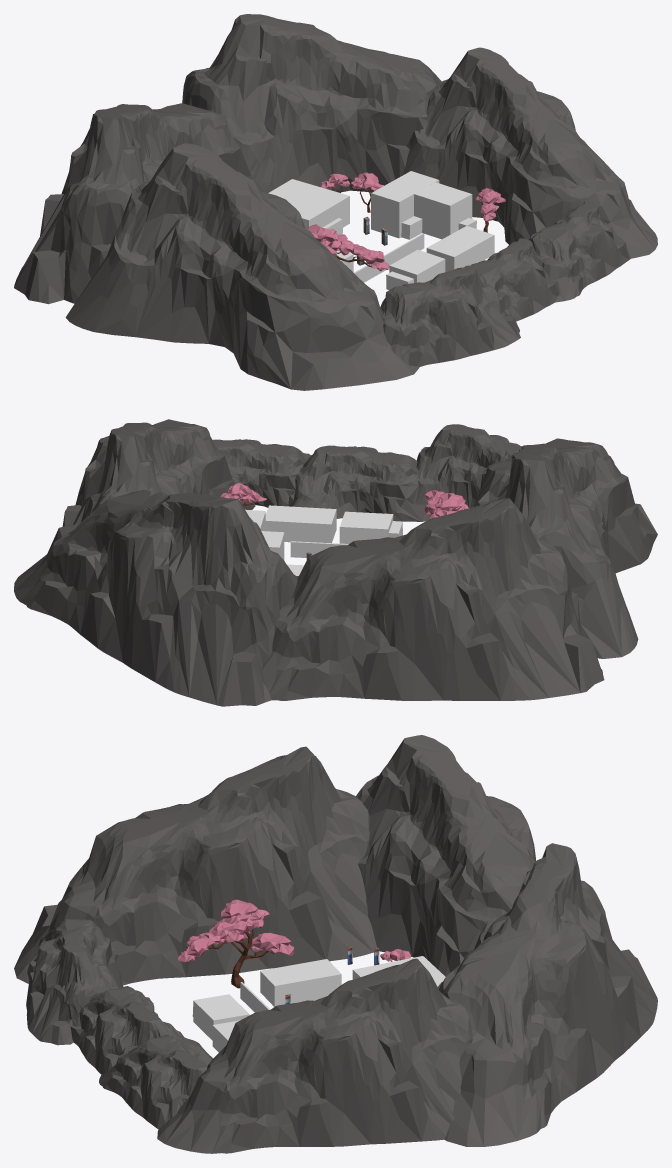
3 views of the same model, one above another, from view 1: azimuth 30°, elevation 25°; view 2: azimuth 150°, elevation 25°; view 3: azimuth 270°, elevation 25° (orthographic). The views are drawn at different scales.
Visible parts, largest first — view 1: SM_Env_Cliff_4.001, SM_Env_Cliff_5.002, SM_Env_Cliff_01_371.001, SM_Env_Cliff_5.001, SM_Env_Cliff_485, SM_Env_Cliff_19.001, SM_Env_Cliff_24.001, cube12_hide, cube6_hide, cube15_hide, cube11_hide, SM_Env_Tree_200 (+3 smaller); view 2: SM_Env_Cliff_5.001, SM_Env_Cliff_5.002, SM_Env_Cliff_4.001, SM_Env_Cliff_01_371.001, SM_Env_Cliff_24.001, SM_Env_Cliff_485, SM_Env_Cliff_19.001, cube11_hide, cube10_hide, SM_Env_Tree_200, cube5_hide, SM_Env_Tree_203 (+1 smaller); view 3: SM_Env_Cliff_4.001, SM_Env_Cliff_01_371.001, SM_Env_Cliff_5.002, SM_Env_Cliff_5.001, SM_Env_Cliff_485, SM_Env_Cliff_19.001, SM_Env_Cliff_24.001, SM_Env_Tree_200, cube14_hide, cube10_hide, cube15_hide.
Part boxes in pixels (x1=…): SM_Env_Cliff_4.001: x1=65, y1=143, x2=419, y2=390; SM_Env_Cliff_5.002: x1=182, y1=14, x2=441, y2=193; SM_Env_Cliff_01_371.001: x1=394, y1=47, x2=657, y2=258; SM_Env_Cliff_5.001: x1=14, y1=103, x2=266, y2=304; SM_Env_Cliff_485: x1=380, y1=265, x2=520, y2=367; SM_Env_Cliff_19.001: x1=527, y1=200, x2=630, y2=302; SM_Env_Cliff_24.001: x1=470, y1=238, x2=559, y2=321; cube12_hide: x1=414, y1=182, x2=472, y2=239; cube6_hide: x1=371, y1=171, x2=439, y2=238; cube15_hide: x1=268, y1=179, x2=349, y2=229; cube11_hide: x1=426, y1=226, x2=494, y2=272; SM_Env_Tree_200: x1=307, y1=224, x2=389, y2=271; SM_Env_Cliff_5.001: x1=262, y1=498, x2=604, y2=700; SM_Env_Cliff_5.002: x1=14, y1=490, x2=298, y2=706; SM_Env_Cliff_4.001: x1=474, y1=438, x2=657, y2=658; SM_Env_Cliff_01_371.001: x1=62, y1=419, x2=255, y2=526; SM_Env_Cliff_24.001: x1=288, y1=445, x2=431, y2=521; SM_Env_Cliff_485: x1=415, y1=424, x2=520, y2=507; SM_Env_Cliff_19.001: x1=213, y1=439, x2=311, y2=507; cube11_hide: x1=265, y1=505, x2=336, y2=543; cube10_hide: x1=339, y1=511, x2=393, y2=543; SM_Env_Tree_200: x1=424, y1=490, x2=468, y2=518; cube5_hide: x1=290, y1=541, x2=348, y2=557; SM_Env_Tree_203: x1=220, y1=483, x2=266, y2=507; SM_Env_Cliff_4.001: x1=14, y1=746, x2=376, y2=985; SM_Env_Cliff_01_371.001: x1=157, y1=958, x2=472, y2=1153; SM_Env_Cliff_5.002: x1=438, y1=843, x2=657, y2=1146; SM_Env_Cliff_5.001: x1=356, y1=735, x2=535, y2=976; SM_Env_Cliff_485: x1=26, y1=919, x2=123, y2=1045; SM_Env_Cliff_19.001: x1=99, y1=1034, x2=207, y2=1129; SM_Env_Cliff_24.001: x1=70, y1=986, x2=212, y2=1074; SM_Env_Tree_200: x1=178, y1=899, x2=293, y2=988; cube14_hide: x1=260, y1=959, x2=341, y2=1006; cube10_hide: x1=193, y1=994, x2=249, y2=1040; cube15_hide: x1=352, y1=956, x2=445, y2=986.
Size of the model in its own units: 77.05 by 21.48 by 72.29.
3 materials, 3 textured.
